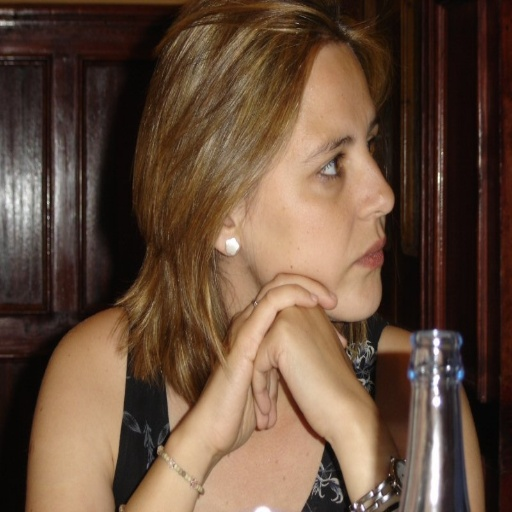hand: (193, 272, 347, 456)
